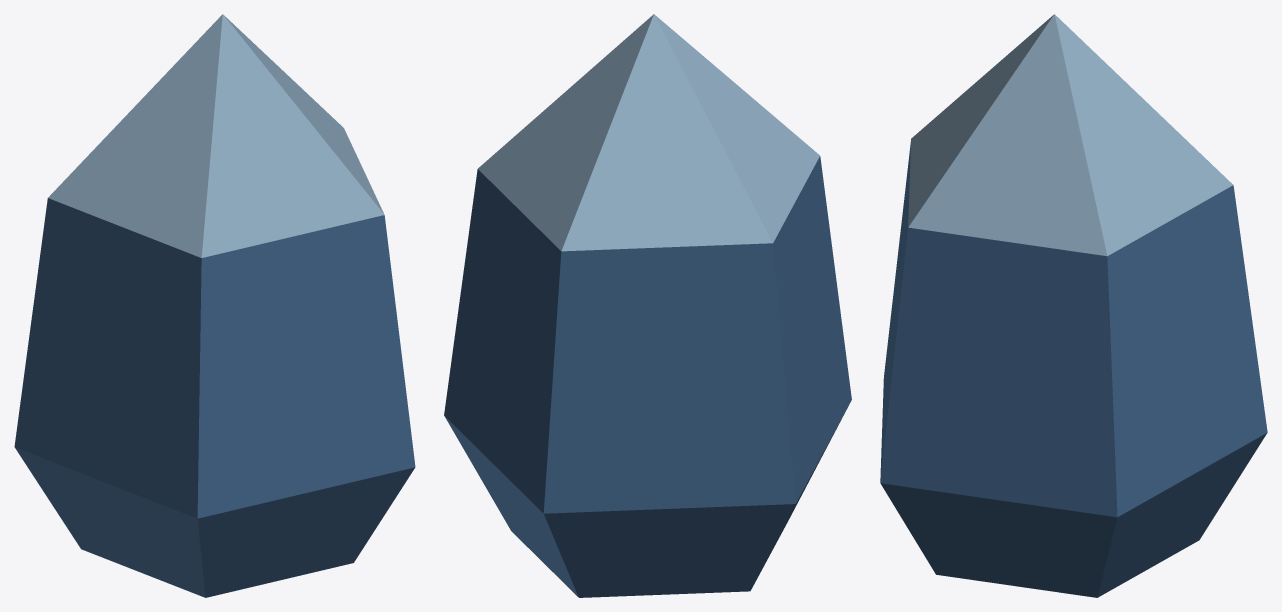
File: item_crystal_sapphire.glb
3 views of the same model, side by side, from view 1: azimuth 30°, elevation 25°; view 2: azimuth 150°, elevation 25°; view 3: azimuth 270°, elevation 25° (orthographic).
Parts seen in each view (by area): view 1: item_crystal_sapphire; view 2: item_crystal_sapphire; view 3: item_crystal_sapphire.
Part boxes in pixels (box(x1,y1,x2,y2)): item_crystal_sapphire: box(14, 14, 415, 597); item_crystal_sapphire: box(444, 14, 851, 597); item_crystal_sapphire: box(880, 14, 1267, 597).
Size of the model in its own units: 0.2377 by 0.34 by 0.2271.
